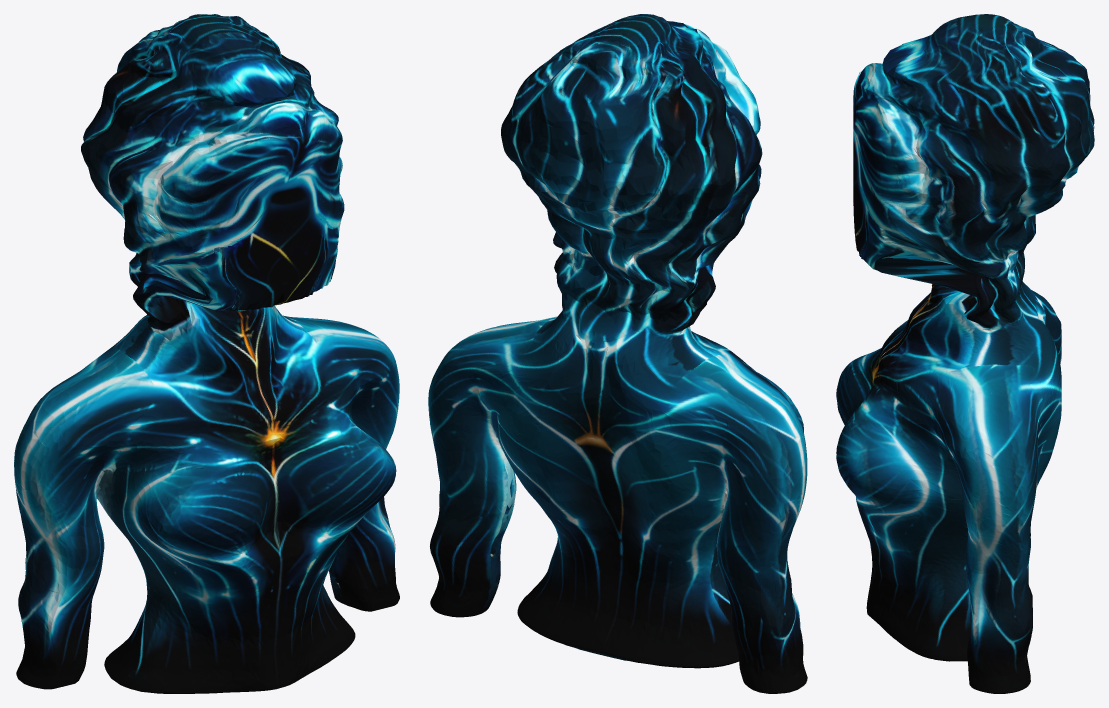
File: n7-model-fitted-v2.glb
3 renders of one model, left to right at view 1: azimuth 30°, elevation 25°; view 2: azimuth 150°, elevation 25°; view 3: azimuth 270°, elevation 25°, orthographic. The views are drawn at different scales.
Visible parts, largest first — view 1: n7_fitted; view 2: n7_fitted; view 3: n7_fitted.
Boxes of the visible parts, x1,y1,x2,y2 form: n7_fitted: (14,14,399,693); n7_fitted: (428,14,807,693); n7_fitted: (836,14,1094,693).
Size of the model in its own units: 270 by 430 by 172.
Materials: 1 (1 with a texture image).
